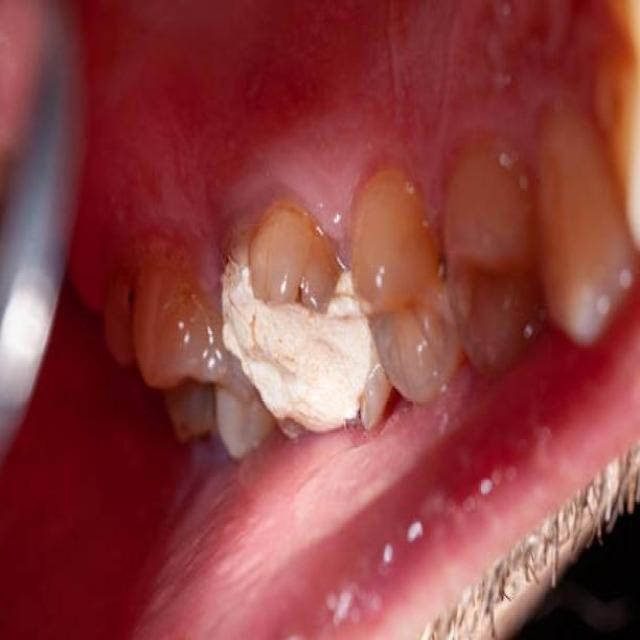caries: (221, 281, 373, 444), (107, 274, 146, 333)
